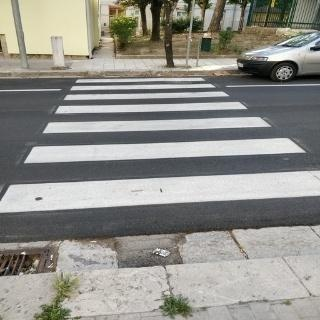road_crosswalk: (6, 76, 316, 215)
